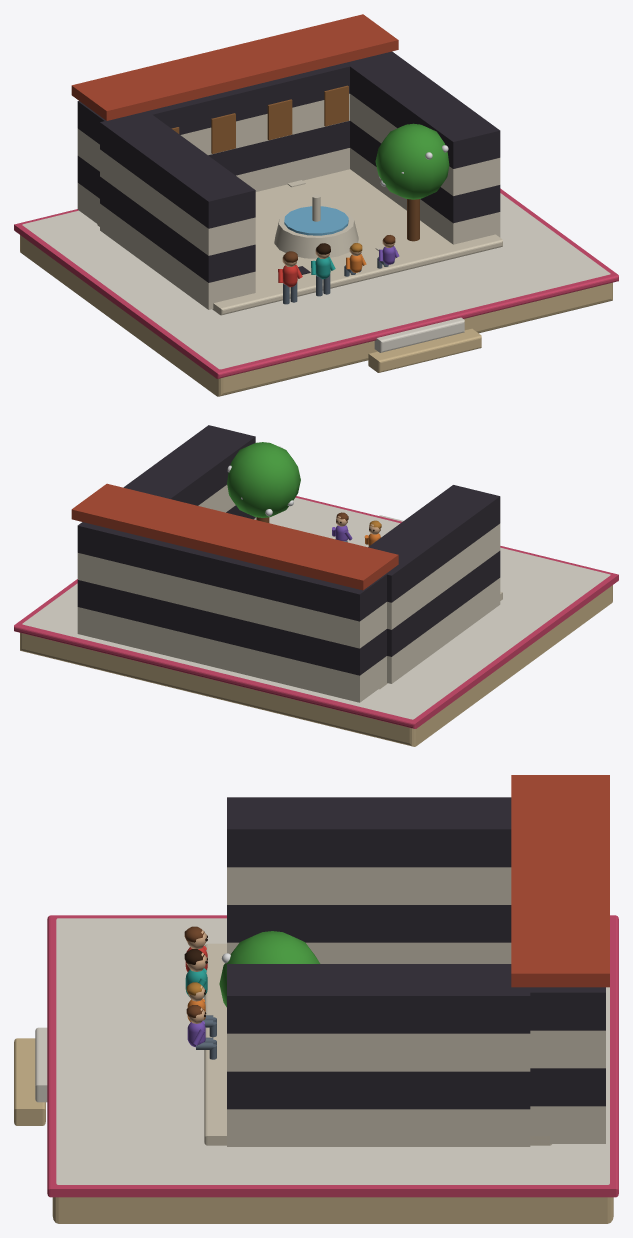
File: familyHouse.glb
The picture shows the model from 3 angles, top to bottom: view 1: azimuth 30°, elevation 25°; view 2: azimuth 150°, elevation 25°; view 3: azimuth 270°, elevation 25°; orthographic projection. The views are drawn at different scales.
Visible parts, largest first — view 1: part_000; view 2: part_000; view 3: part_000.
Boxes of the visible parts, bbox=[...] form: part_000: bbox=[14, 14, 618, 396]; part_000: bbox=[14, 425, 618, 746]; part_000: bbox=[14, 775, 618, 1223].
Bounding box in the file's own units: 8.54 × 3.15 × 7.98.
